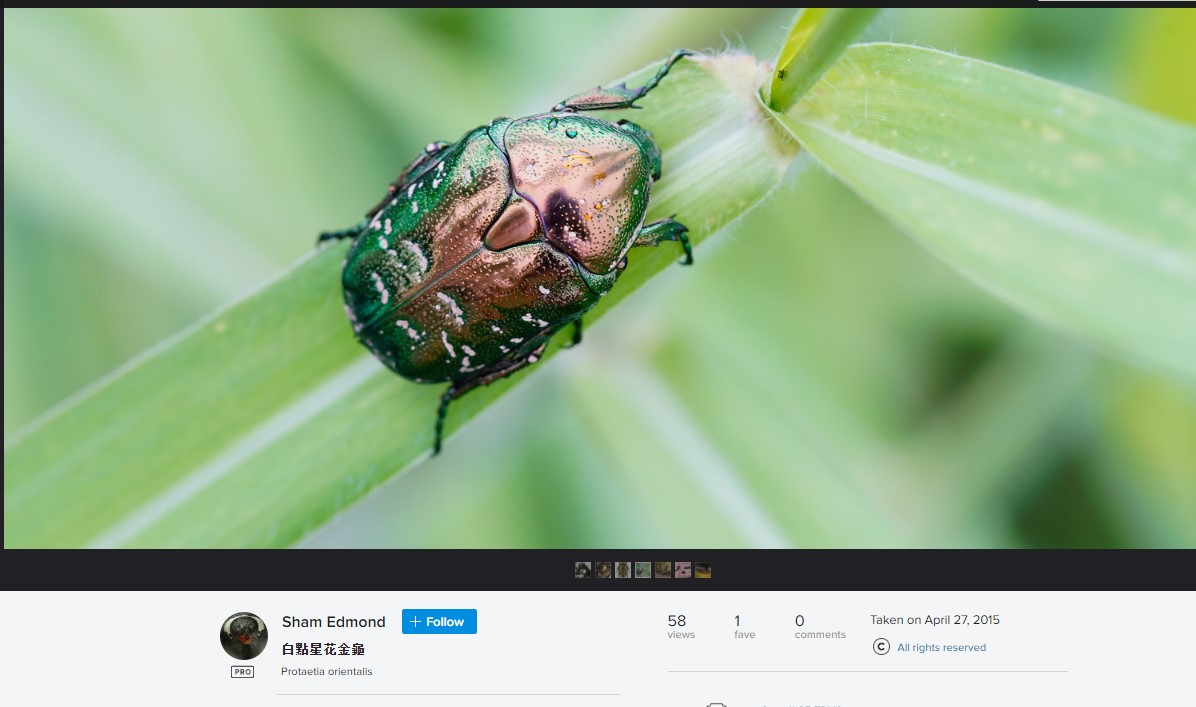Protaetia _orientalis: (309, 95, 710, 462)
